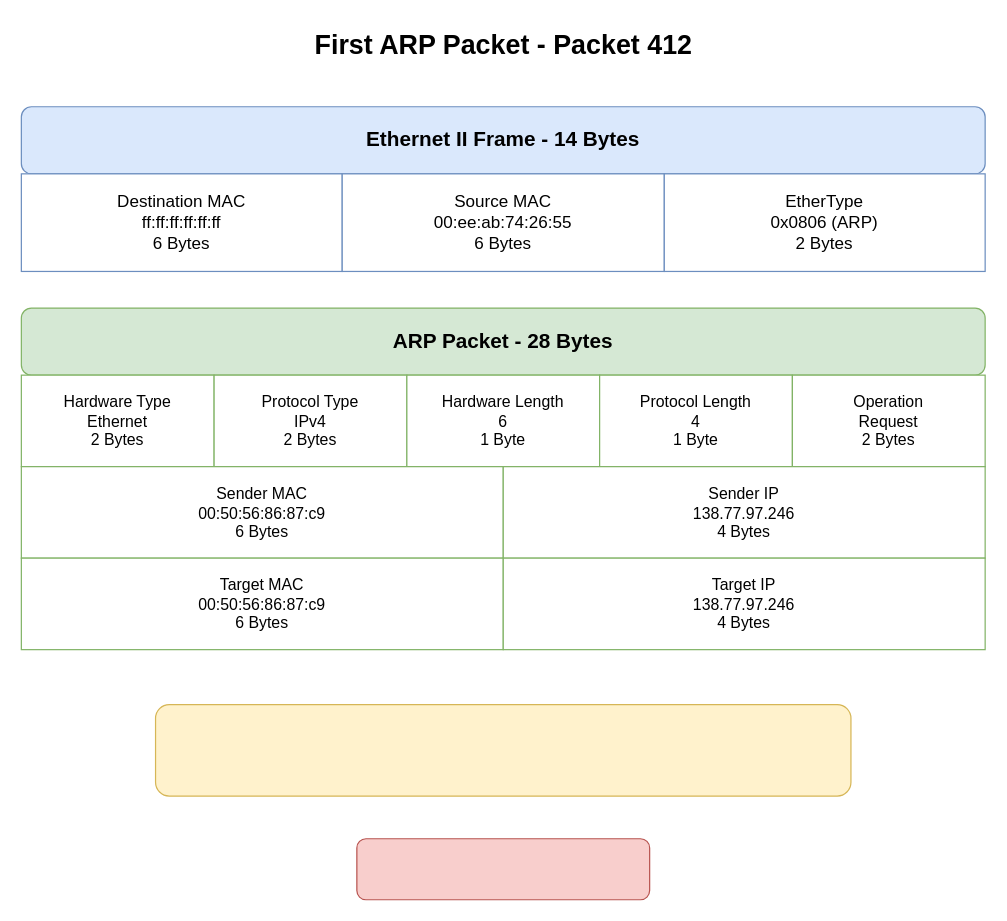
The diagram is 1007 pixels wide and 921 high, and some of its shapes have lost their labels. The shapes that lost their labels are listed below. From the top down, each one's centre as x and y in pixels, then its label:
At point (502, 749): "Total Captured Packet Size: 42 Bytes 14 Bytes Ethernet II + 28 Bytes ARP".
At point (503, 869): "ARP Request".
